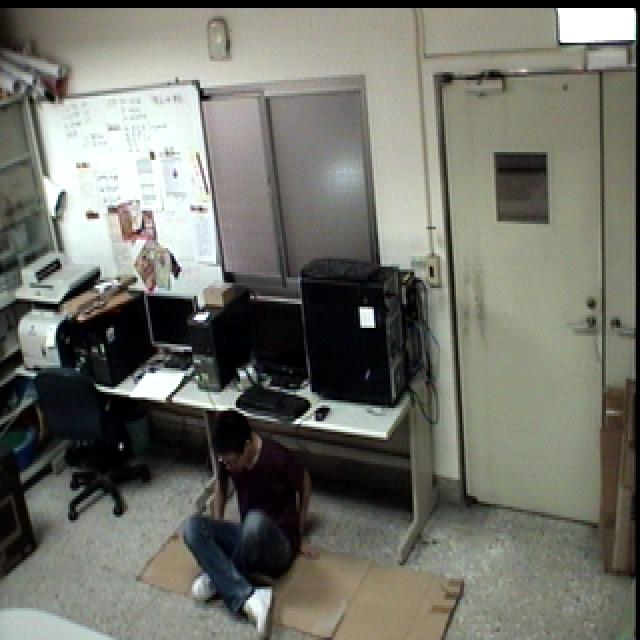sit: (169, 398, 324, 640)
